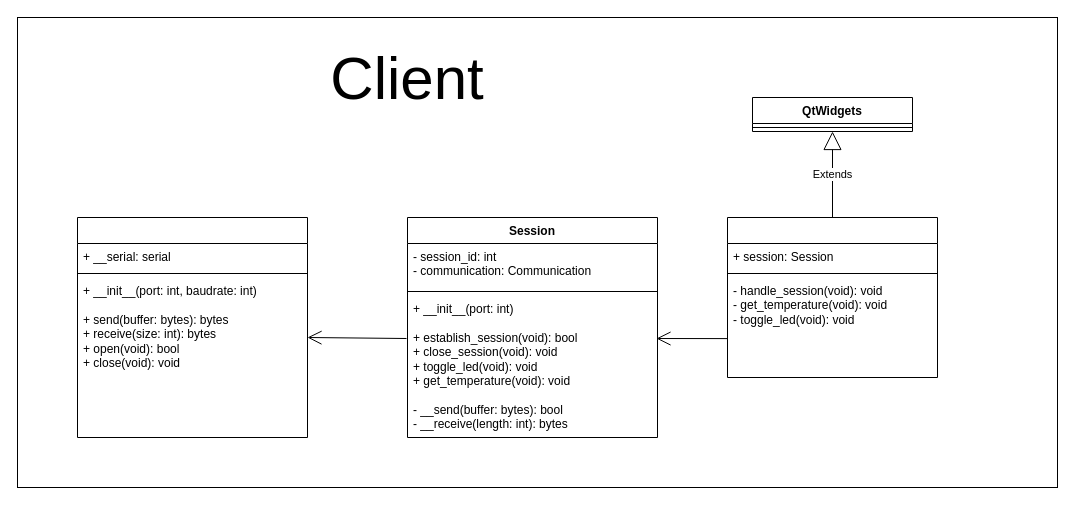
The diagram is 1075 pixels wide and 505 high, and some of its shapes have lost their labels. Here are the shapes that lost their labels. From the top down, the box of each, then its label:
(726, 216, 938, 378): gui
(76, 216, 308, 438): Communication
